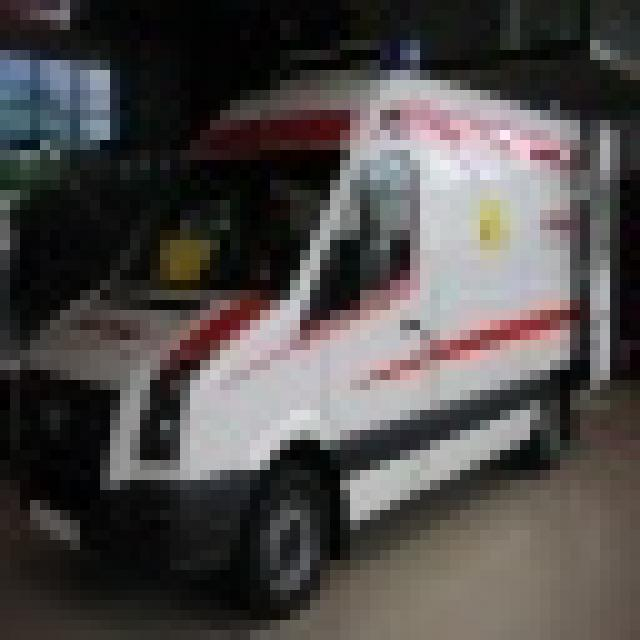Ambulance: (0, 40, 600, 610)
